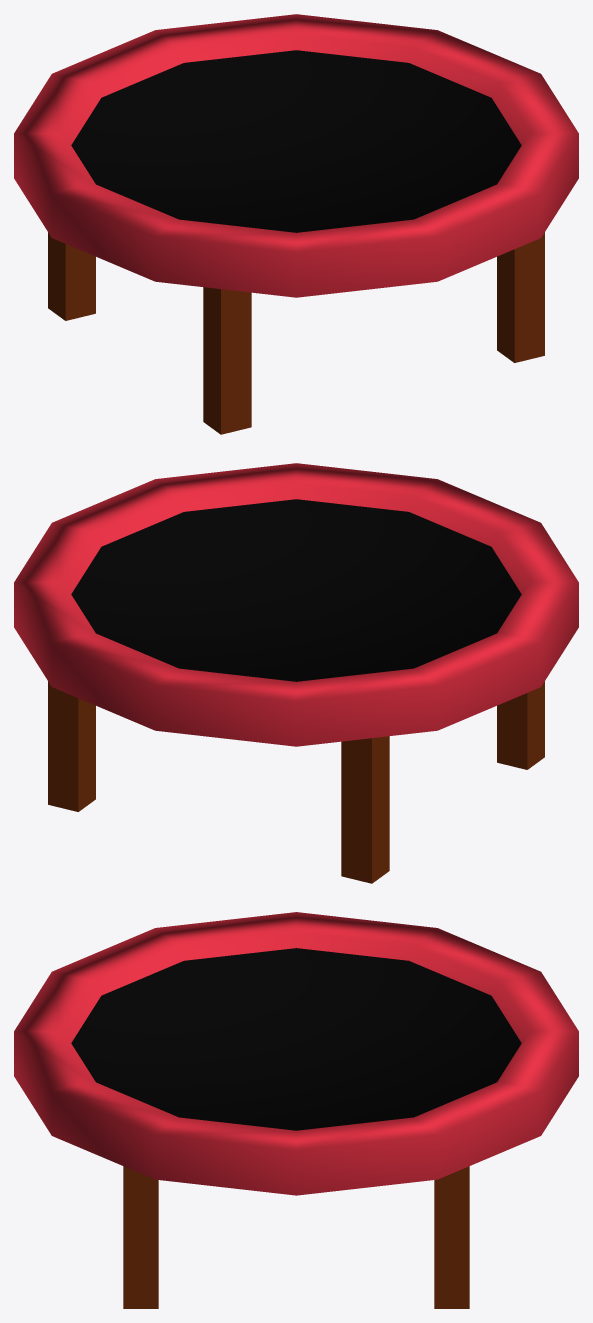
The model's file is trampoline.fbx.
3 views of the same model, one above another, from view 1: azimuth 30°, elevation 25°; view 2: azimuth 150°, elevation 25°; view 3: azimuth 270°, elevation 25° (orthographic).
Visible parts, largest first — view 1: Cube; view 2: Cube; view 3: Cube.
Boxes of the visible parts, x1,y1,x2,y2 form: Cube: [14, 14, 578, 434]; Cube: [14, 463, 578, 883]; Cube: [14, 912, 578, 1308].
Bounding box in the file's own units: 400 × 155 × 400.
